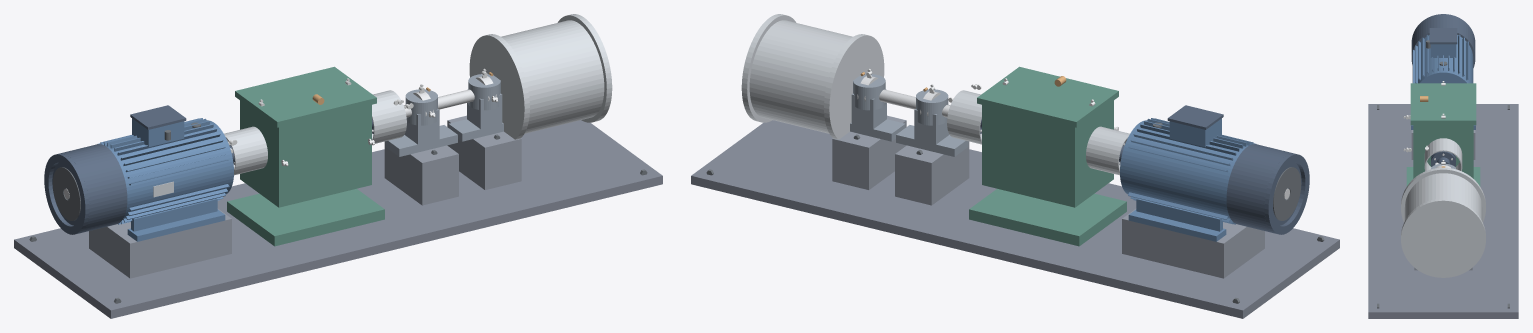
The model's file is machine-train.glb.
The picture shows the model from 3 angles, left to right: view 1: azimuth 30°, elevation 25°; view 2: azimuth 150°, elevation 25°; view 3: azimuth 270°, elevation 25°; orthographic projection. The views are drawn at different scales.
Parts seen in each view (by area): view 1: PART_001, CASING_GBHOUSING_051, CASING_DRUM_101, CASING_GBFOOT_053, PART_022, CASING_MOTORBODY_006, CASING_SPLITLINE_052, CASING_FINS_009, CASING_COWL_010, PART_085, CASING_DRUM_102, PART_096 (+16 smaller); view 2: PART_001, CASING_GBHOUSING_051, CASING_DRUM_101, CASING_MOTORBODY_006, CASING_GBFOOT_053, PART_022, CASING_SPLITLINE_052, CASING_COWL_010, PART_085, CASING_DRUM_102, PART_096, CASING_FINS_009 (+16 smaller); view 3: PART_001, CASING_DRUM_103, CASING_SPLITLINE_052, CASING_DRUM_101, CASING_GBHOUSING_051, CASING_FINS_009, CASING_COWL_010, CASING_MOTORBODY_006, CASING_DRUM_102, CASING_GUARD_077, PART_014, CASING_ENDBELL_007 (+5 smaller).
Part boxes in pixels (x1,y1,x2,y2): PART_001: (14, 120, 662, 318); CASING_GBHOUSING_051: (240, 100, 371, 207); CASING_DRUM_101: (501, 20, 604, 133); CASING_GBFOOT_053: (227, 188, 384, 246); PART_022: (89, 208, 231, 278); CASING_MOTORBODY_006: (105, 120, 233, 219); CASING_SPLITLINE_052: (235, 66, 376, 127); CASING_FINS_009: (97, 118, 229, 224); CASING_COWL_010: (52, 144, 127, 233); PART_085: (384, 141, 458, 205); CASING_DRUM_102: (469, 34, 529, 139); PART_096: (447, 115, 521, 189); PART_001: (691, 120, 1339, 318); CASING_GBHOUSING_051: (982, 100, 1113, 207); CASING_DRUM_101: (749, 20, 852, 133); CASING_MOTORBODY_006: (1120, 120, 1248, 219); CASING_GBFOOT_053: (969, 188, 1126, 246); PART_022: (1122, 208, 1264, 278); CASING_SPLITLINE_052: (977, 66, 1118, 127); CASING_COWL_010: (1226, 144, 1301, 233); PART_085: (895, 141, 969, 205); CASING_DRUM_102: (824, 34, 884, 139); PART_096: (832, 115, 906, 189); CASING_FINS_009: (1128, 118, 1256, 224); PART_001: (1368, 104, 1518, 318); CASING_DRUM_103: (1401, 198, 1485, 277); CASING_SPLITLINE_052: (1410, 83, 1476, 125); CASING_DRUM_101: (1404, 173, 1482, 220); CASING_GBHOUSING_051: (1413, 125, 1473, 178); CASING_FINS_009: (1412, 34, 1468, 83); CASING_COWL_010: (1411, 15, 1475, 67); CASING_MOTORBODY_006: (1417, 35, 1473, 83); CASING_DRUM_102: (1401, 167, 1485, 222); CASING_GUARD_077: (1424, 138, 1462, 171); PART_014: (1429, 28, 1457, 44); CASING_ENDBELL_007: (1418, 69, 1468, 83).
Bounding box in the file's own units: 5.1 × 1.27 × 1.55.
